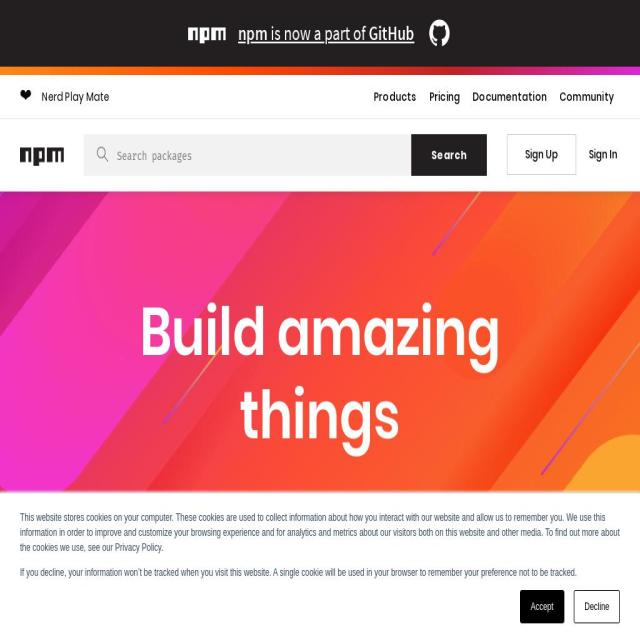button: (411, 134, 487, 176), (507, 134, 576, 175), (466, 82, 554, 112), (553, 82, 621, 112), (367, 82, 423, 112), (573, 590, 620, 623), (520, 590, 564, 623), (422, 82, 467, 112), (586, 142, 620, 166)
field: (110, 138, 408, 172)
heading: (90, 289, 550, 457), (160, 586, 480, 640)
image: (188, 23, 226, 48), (20, 148, 64, 166), (427, 19, 452, 47)
link: (369, 20, 414, 46), (238, 20, 268, 46)
text: (20, 510, 620, 555), (160, 501, 480, 562), (42, 82, 347, 112), (20, 565, 620, 580), (268, 20, 368, 46), (373, 88, 417, 105), (20, 82, 42, 112)
